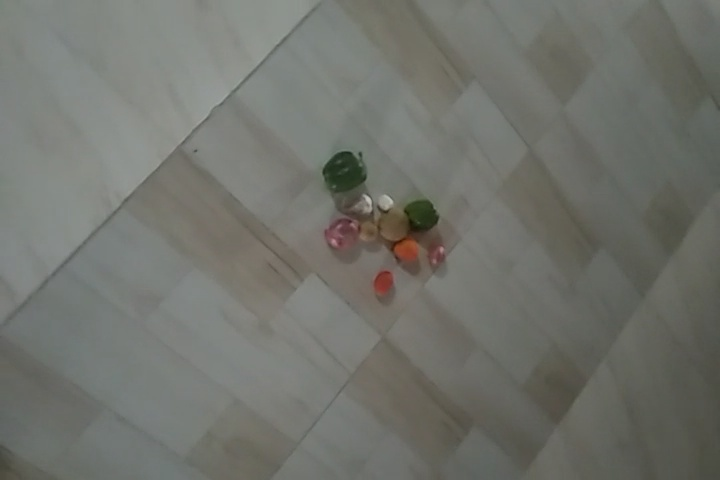capsicum: (325, 153, 367, 193), (402, 200, 435, 232)
garlic: (343, 192, 381, 214)
onion: (327, 215, 356, 251), (430, 246, 453, 267)
potato: (378, 212, 408, 241), (354, 223, 379, 243), (373, 192, 393, 210)
tomato: (370, 268, 397, 295), (391, 235, 420, 260)
